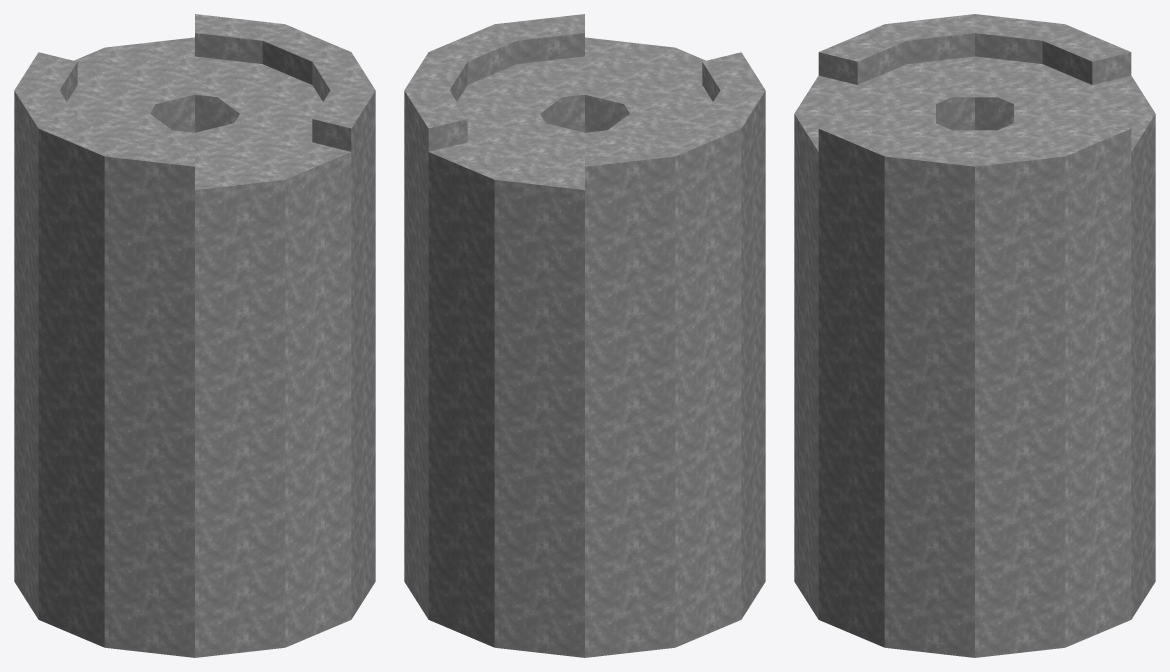
Rendered from QuarantineWall-Connector.obj.
The picture shows the model from 3 angles, left to right: view 1: azimuth 30°, elevation 25°; view 2: azimuth 150°, elevation 25°; view 3: azimuth 270°, elevation 25°; orthographic projection.
Visible parts, largest first — view 1: QuarantineWall-Connector; view 2: QuarantineWall-Connector; view 3: QuarantineWall-Connector.
Boxes of the visible parts, left/top/right/bottom form: QuarantineWall-Connector: left=14, top=14, right=375, bottom=657; QuarantineWall-Connector: left=404, top=14, right=765, bottom=657; QuarantineWall-Connector: left=794, top=14, right=1155, bottom=657.
Size of the model in its own units: 7 by 10.5 by 7.
